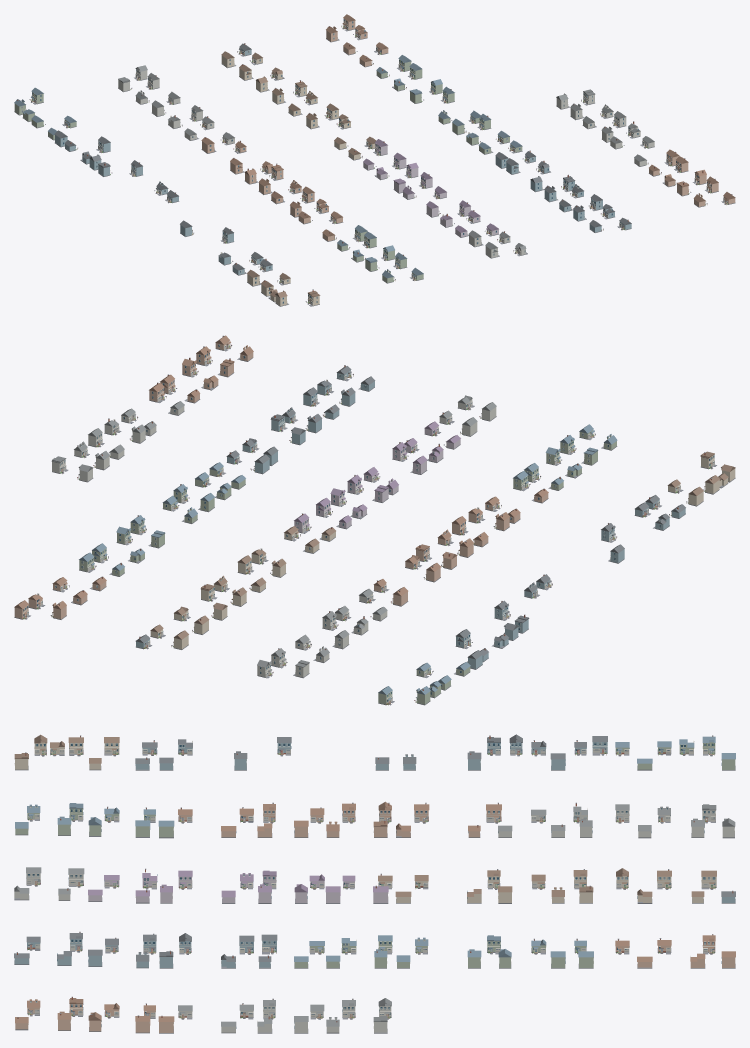
Rendered from crown-fields.glb.
The picture shows the model from 3 angles, top to bottom: view 1: azimuth 30°, elevation 25°; view 2: azimuth 150°, elevation 25°; view 3: azimuth 270°, elevation 25°; orthographic projection. The views are drawn at different scales.
Bounding box in the file's own units: 303 × 10.25 × 329.
